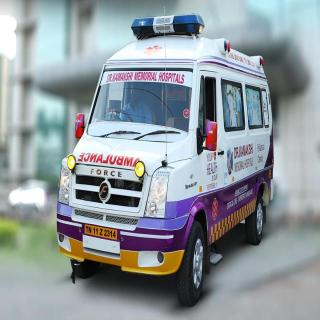Ambulance: (35, 11, 293, 317)
